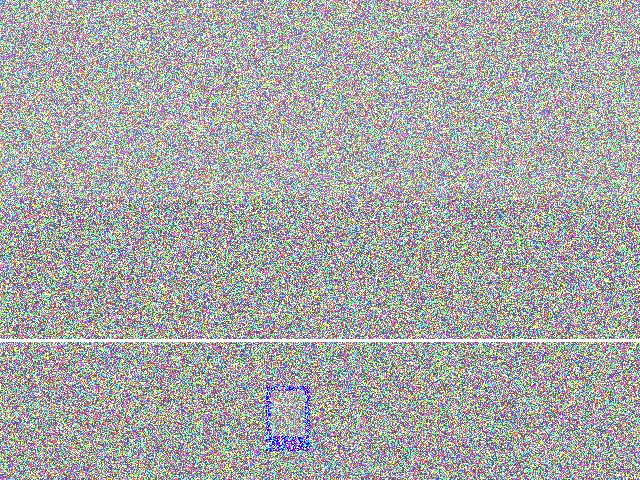car: (257, 145, 445, 233)
truck: (277, 170, 468, 291)
